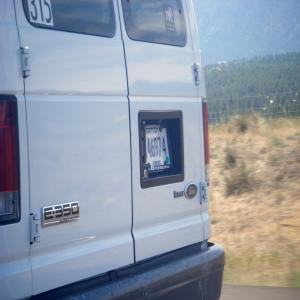Vehicle-registration-plate: (143, 125, 175, 175)
